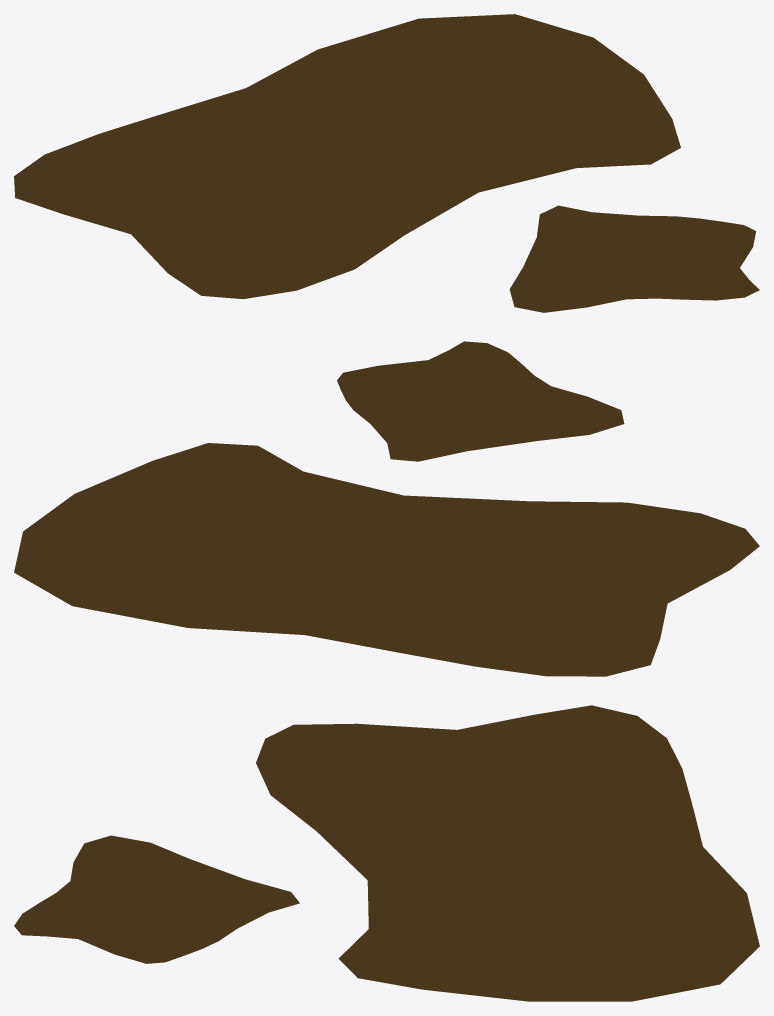
Rendered from mud.fbx.
3 views of the same model, one above another, from view 1: azimuth 30°, elevation 25°; view 2: azimuth 150°, elevation 25°; view 3: azimuth 270°, elevation 25° (orthographic).
Parts seen in each view (by area): view 1: mud; view 2: mud; view 3: mud.
Boxes of the visible parts, x1,y1,x2,y2 form: mud: [14, 14, 759, 312]; mud: [14, 341, 759, 676]; mud: [14, 705, 759, 1001].
Size of the model in its own units: 242 by 4.19e-05 by 257.
